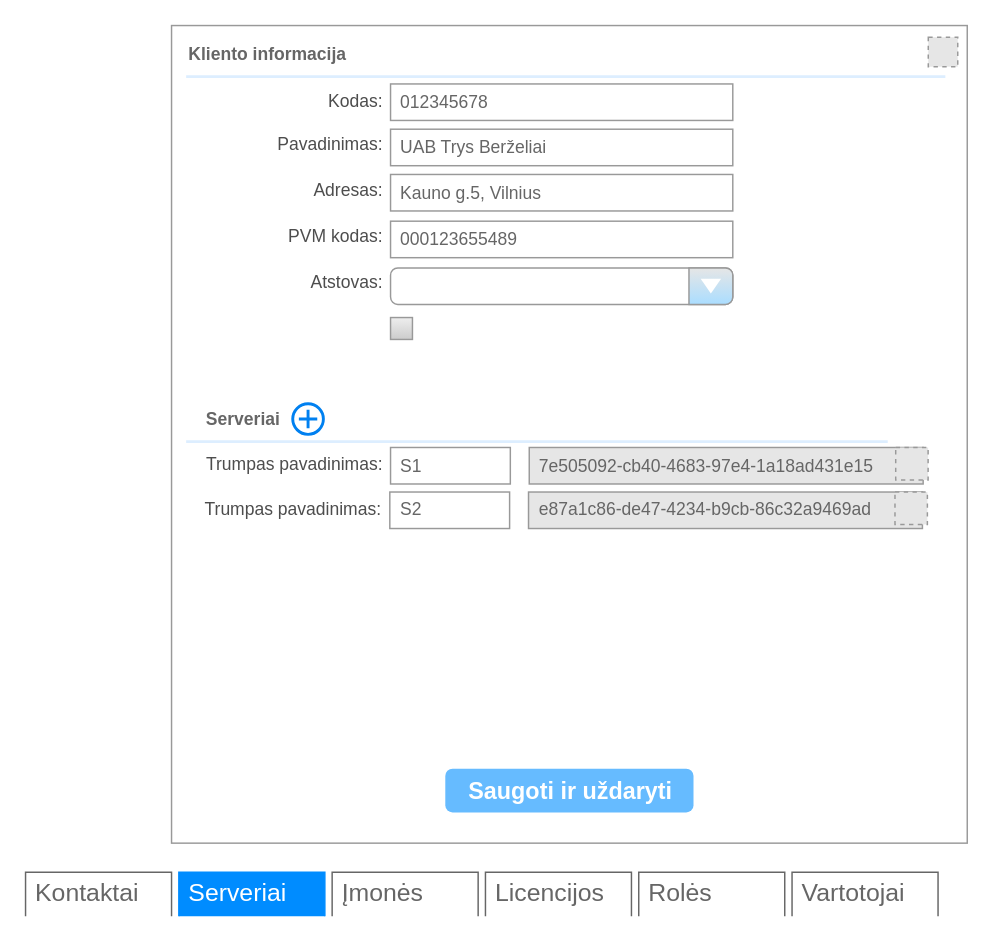
Image size: 993x942. Some labels were removed from this diagram. Grey dashed boxes stand in for pictures. Each missing label, with the centre of its shape:
"Atstovas" goes at [400,327].
"UAB Rivilė" goes at [561,285].
